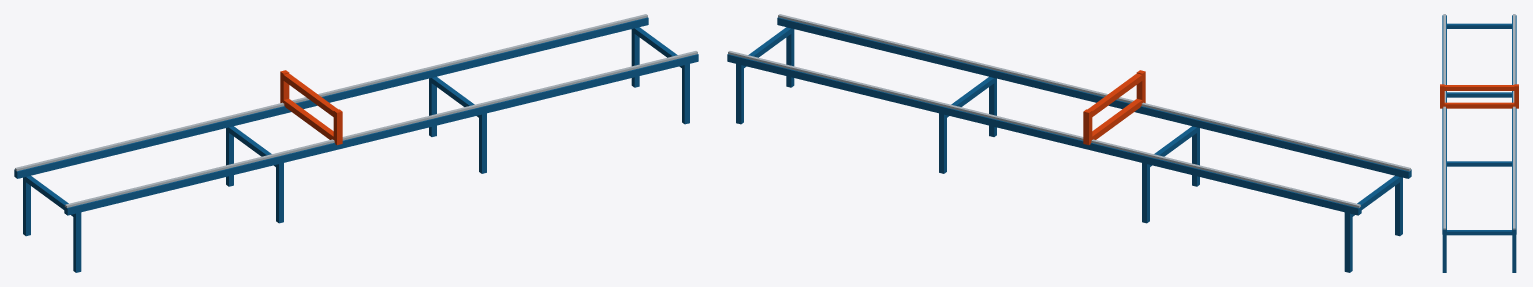
File: storage_buffer.dae
3 renders of one model, left to right at view 1: azimuth 30°, elevation 25°; view 2: azimuth 150°, elevation 25°; view 3: azimuth 270°, elevation 25°, orthographic. The views are drawn at different scales.
Visible parts, largest first — view 1: storage_buffer; view 2: storage_buffer; view 3: storage_buffer.
Part boxes in pixels (x1,y1,x2,y2): storage_buffer: [14, 14, 698, 272]; storage_buffer: [727, 14, 1411, 272]; storage_buffer: [1440, 14, 1518, 272].
Bounding box in the file's own units: 11.2 × 1.74 × 1.66.
